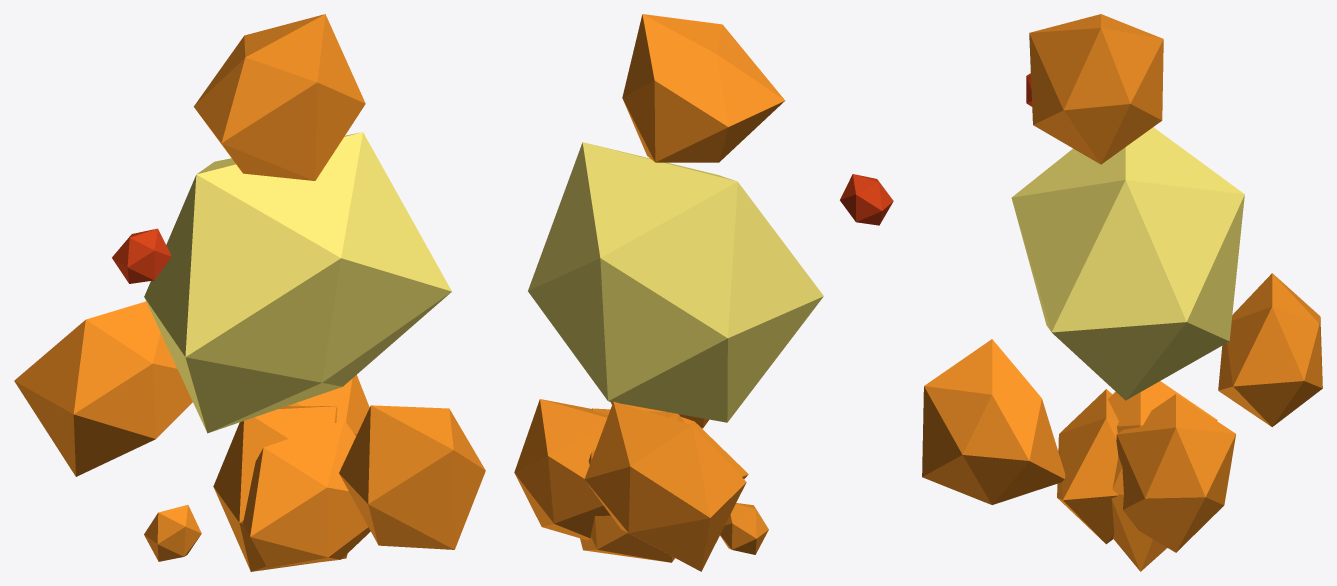
The model's file is frame_7.glb.
3 renders of one model, left to right at view 1: azimuth 30°, elevation 25°; view 2: azimuth 150°, elevation 25°; view 3: azimuth 270°, elevation 25°, orthographic. The views are drawn at different scales.
Visible parts, largest first — view 1: effect_explosion_large_frame_7; view 2: effect_explosion_large_frame_7; view 3: effect_explosion_large_frame_7.
Part boxes in pixels (x1,y1,x2,y2): effect_explosion_large_frame_7: (14,14,485,571); effect_explosion_large_frame_7: (514,14,893,571); effect_explosion_large_frame_7: (922,14,1322,571).
Bounding box in the file's own units: 10.32 × 16.79 × 11.62.
